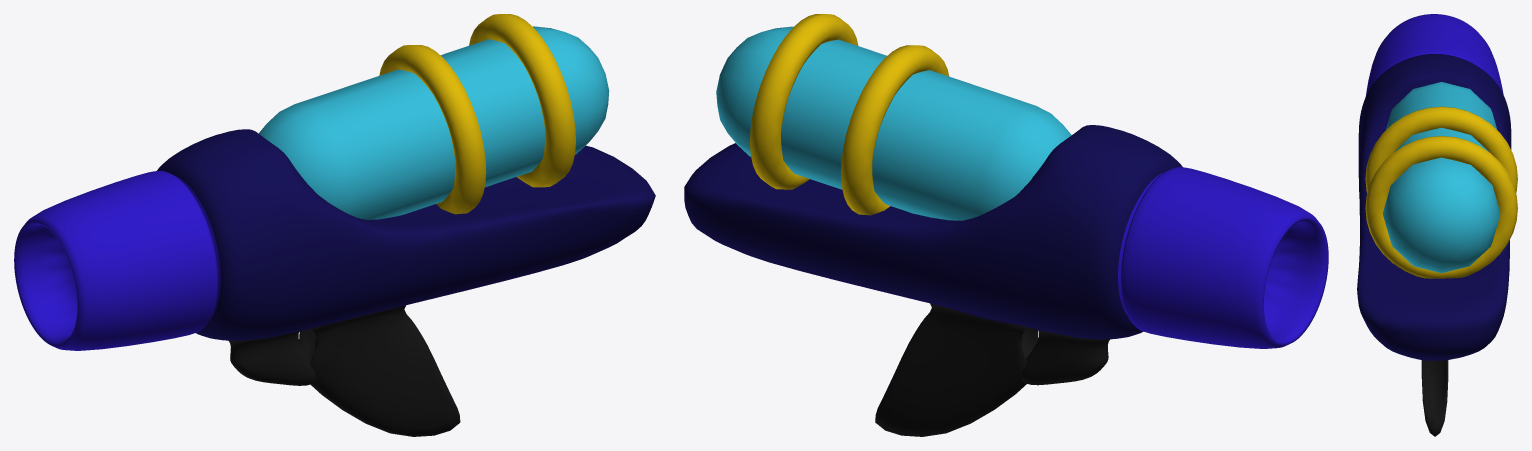
Rendered from Gun.fbx.
3 views of the same model, side by side, from view 1: azimuth 30°, elevation 25°; view 2: azimuth 150°, elevation 25°; view 3: azimuth 270°, elevation 25° (orthographic). The views are drawn at different scales.
Visible parts, largest first — view 1: Gun, Tube001; view 2: Gun, Tube001; view 3: Gun, Tube001.
Part boxes in pixels (box(x1,y1,x2,y2)): Gun: box(14, 129, 655, 436); Tube001: box(259, 14, 609, 219); Gun: box(684, 125, 1328, 436); Tube001: box(716, 14, 1071, 220); Gun: box(1357, 14, 1511, 436); Tube001: box(1365, 82, 1517, 278).
Bounding box in the file's own units: 41.71 × 11.8 × 26.65.
